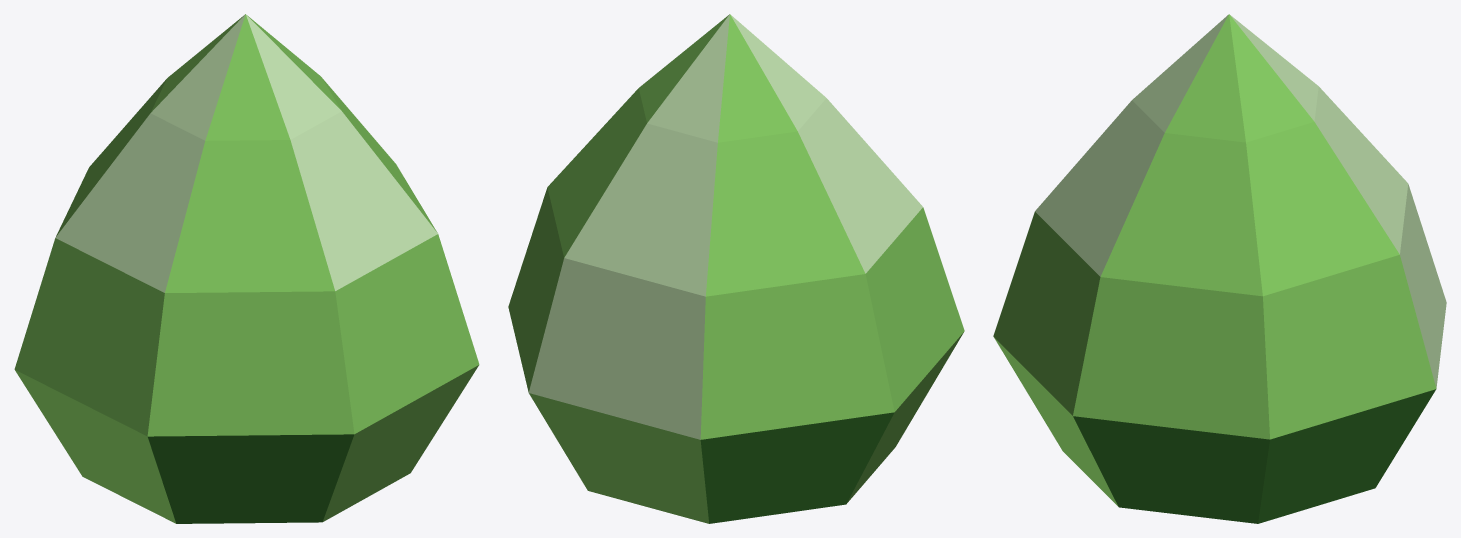
The model's file is dew_drop.glb.
3 views of the same model, side by side, from view 1: azimuth 30°, elevation 25°; view 2: azimuth 150°, elevation 25°; view 3: azimuth 270°, elevation 25° (orthographic).
Parts seen in each view (by area): view 1: dew_drop; view 2: dew_drop; view 3: dew_drop.
Boxes of the visible parts, x1,y1,x2,y2 form: dew_drop: [14, 14, 479, 523]; dew_drop: [508, 14, 964, 523]; dew_drop: [993, 14, 1446, 523].
Bounding box in the file's own units: 0.1655 × 0.2 × 0.1632.
